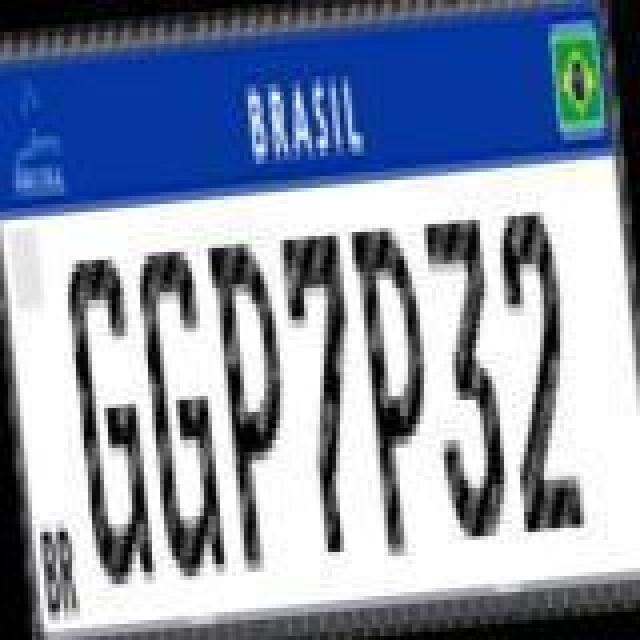2: (490, 200, 590, 544)
3: (414, 206, 514, 546)
7: (276, 228, 372, 564)
G: (132, 242, 228, 582), (64, 248, 160, 584)
P: (206, 232, 306, 576), (348, 220, 444, 564)
